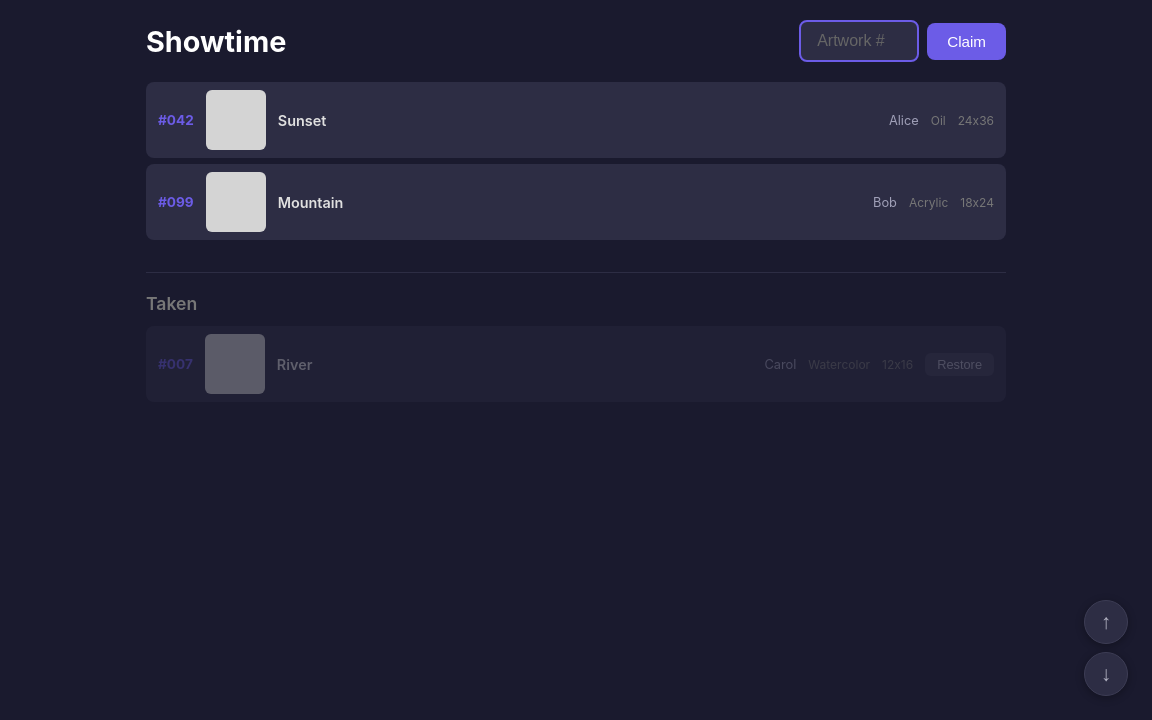
ShowtimePage › shows restore confirm dialog when claiming a taken photo
The image size is (1152, 720).
Type "7" into the field with placeholder "Artwork #" at [859, 41], box [799,20,919,62]
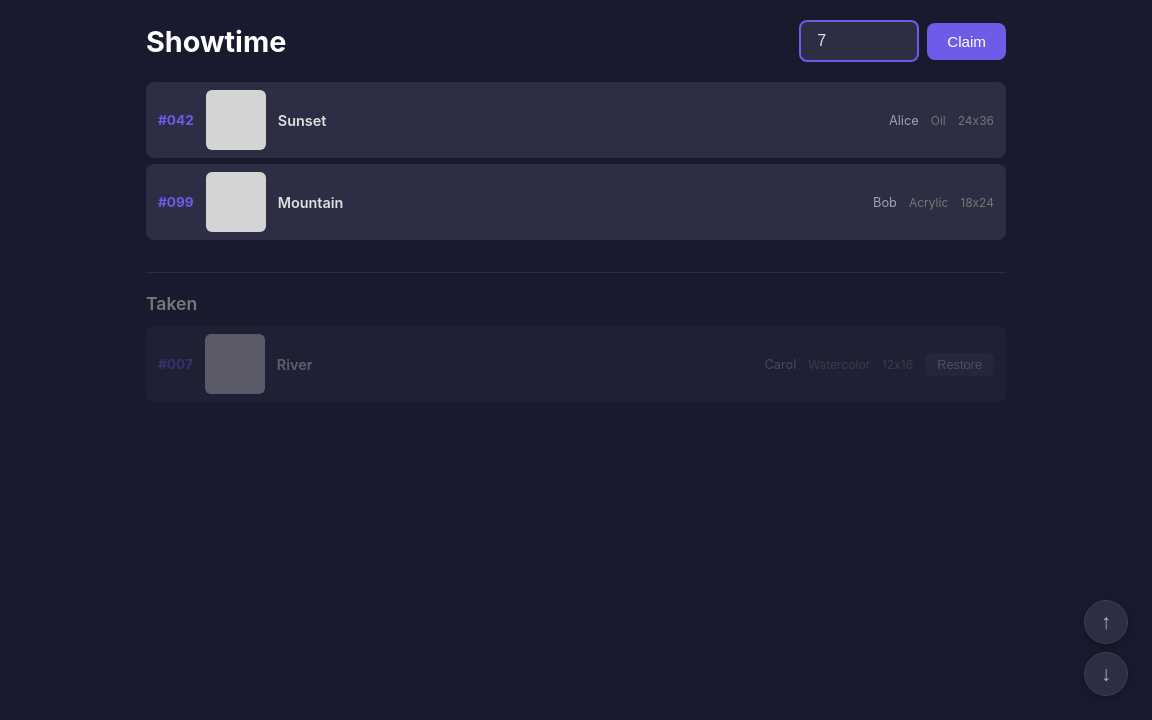
Click the button "Claim" at [967, 41], box [927,22,1006,60]
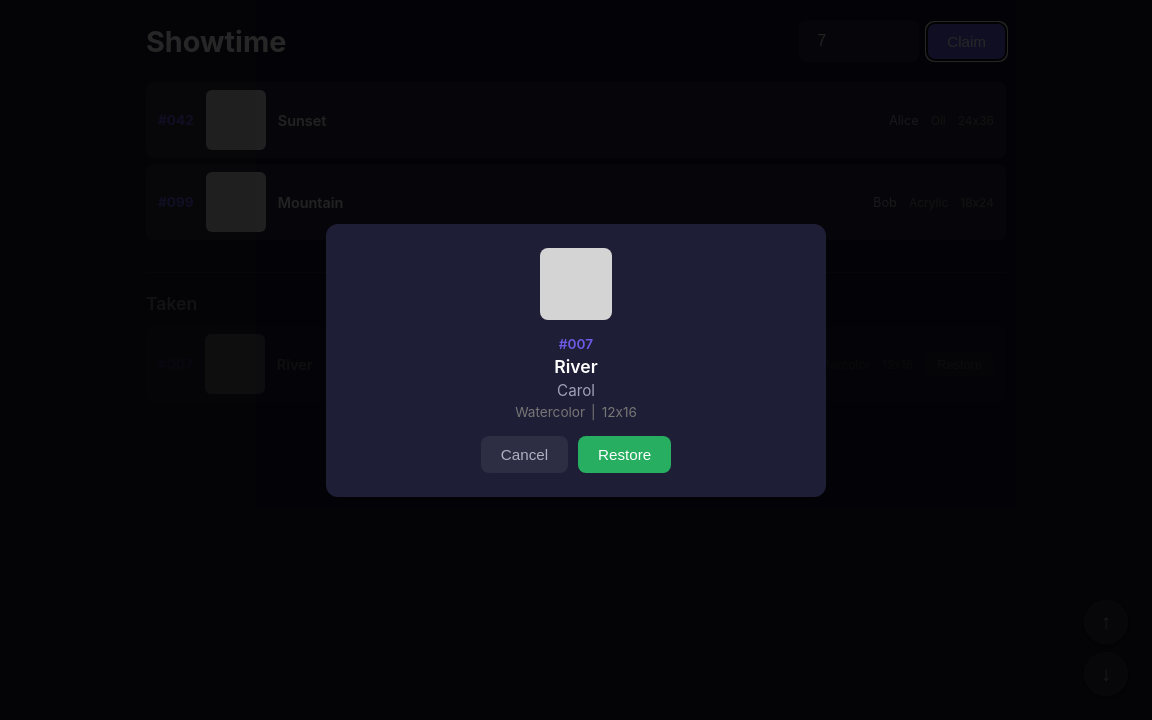
expect the button "Restore" is shown: met, box [578,436,671,472]
